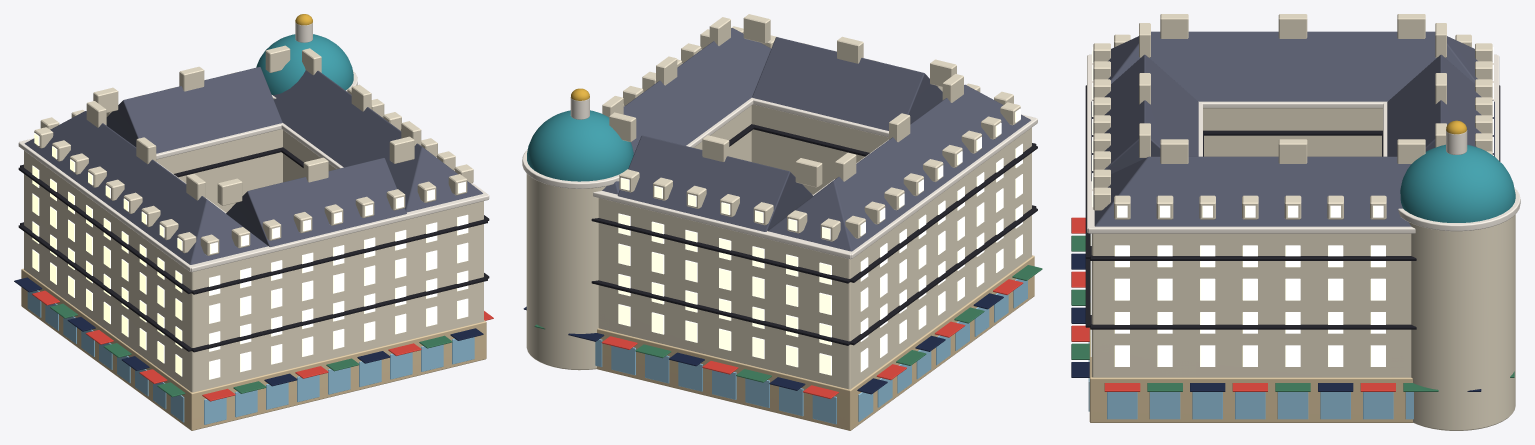
Rendered from city_block.glb.
The picture shows the model from 3 angles, left to right: view 1: azimuth 30°, elevation 25°; view 2: azimuth 150°, elevation 25°; view 3: azimuth 270°, elevation 25°; orthographic projection. The views are drawn at different scales.
Parts seen in each view (by area): view 1: city_block; view 2: city_block; view 3: city_block.
Part boxes in pixels (x1=…): city_block: x1=14, y1=14, x2=493, y2=430; city_block: x1=522, y1=14, x2=1042, y2=430; city_block: x1=1071, y1=14, x2=1520, y2=430.
Size of the model in its own units: 37.88 by 26.52 by 37.9.
Materials: 1 (1 with a texture image).
